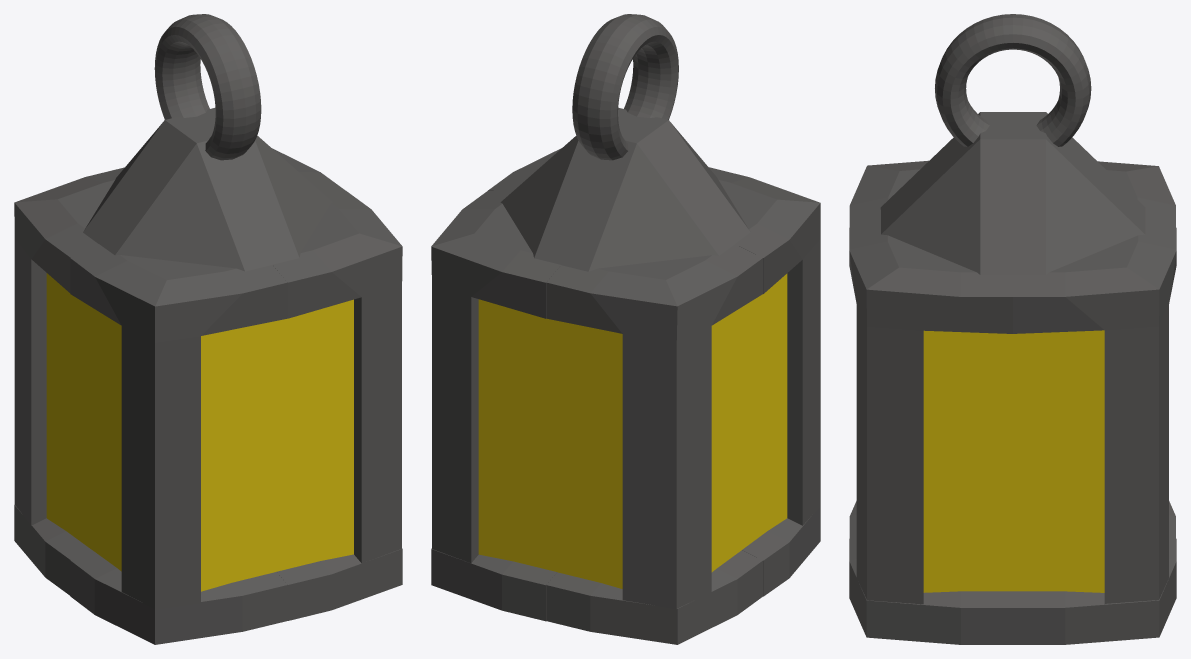
The model's file is lantern.fbx.
3 renders of one model, left to right at view 1: azimuth 30°, elevation 25°; view 2: azimuth 150°, elevation 25°; view 3: azimuth 270°, elevation 25°, orthographic. The views are drawn at different scales.
Visible parts, largest first — view 1: Lantern Body, Glass; view 2: Lantern Body, Glass; view 3: Lantern Body, Glass.
Boxes of the visible parts, x1,y1,x2,y2 form: Lantern Body: (14,14,402,644); Glass: (46,273,353,591); Lantern Body: (431,14,820,644); Glass: (478,273,787,588); Lantern Body: (849,14,1176,644); Glass: (923,330,1104,592).
Size of the model in its own units: 315 by 590 by 314.
